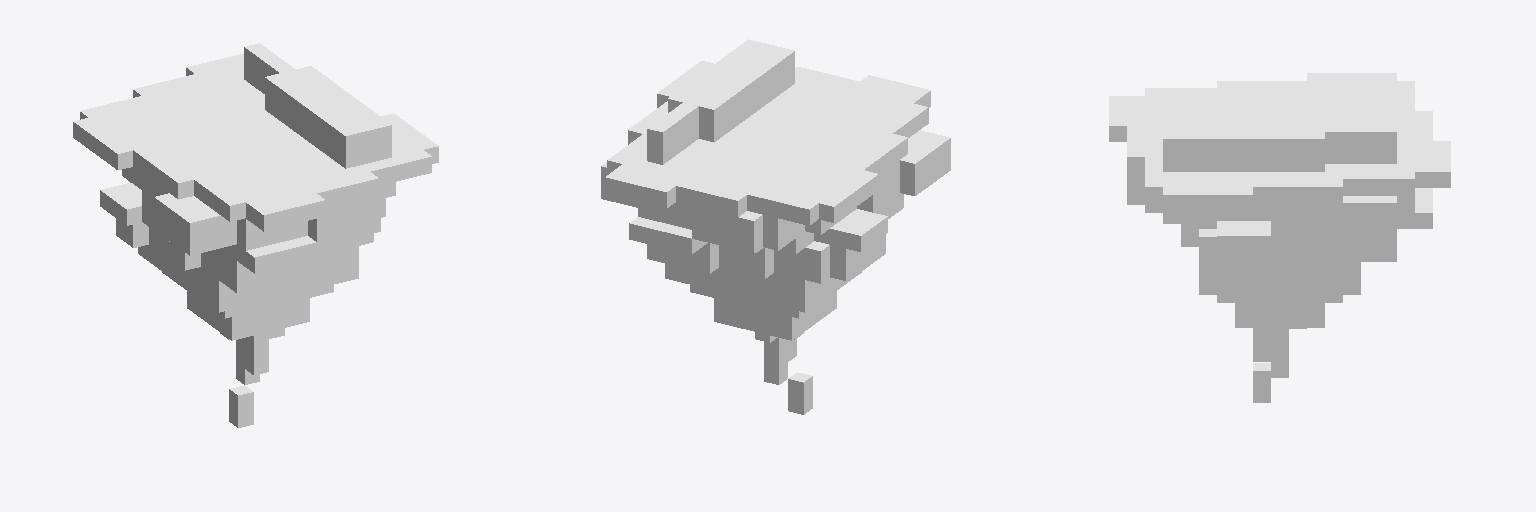
The model's file is Tornado.obj.
3 views of the same model, side by side, from view 1: azimuth 30°, elevation 25°; view 2: azimuth 150°, elevation 25°; view 3: azimuth 270°, elevation 25° (orthographic).
Parts seen in each view (by area): view 1: object 1; view 2: object 1; view 3: object 1.
Boxes of the visible parts, x1,y1,x2,y2 form: object 1: [73, 43, 438, 427]; object 1: [601, 39, 950, 414]; object 1: [1109, 73, 1450, 402].
Bounding box in the file's own units: 1.6 × 1.9 × 1.9.